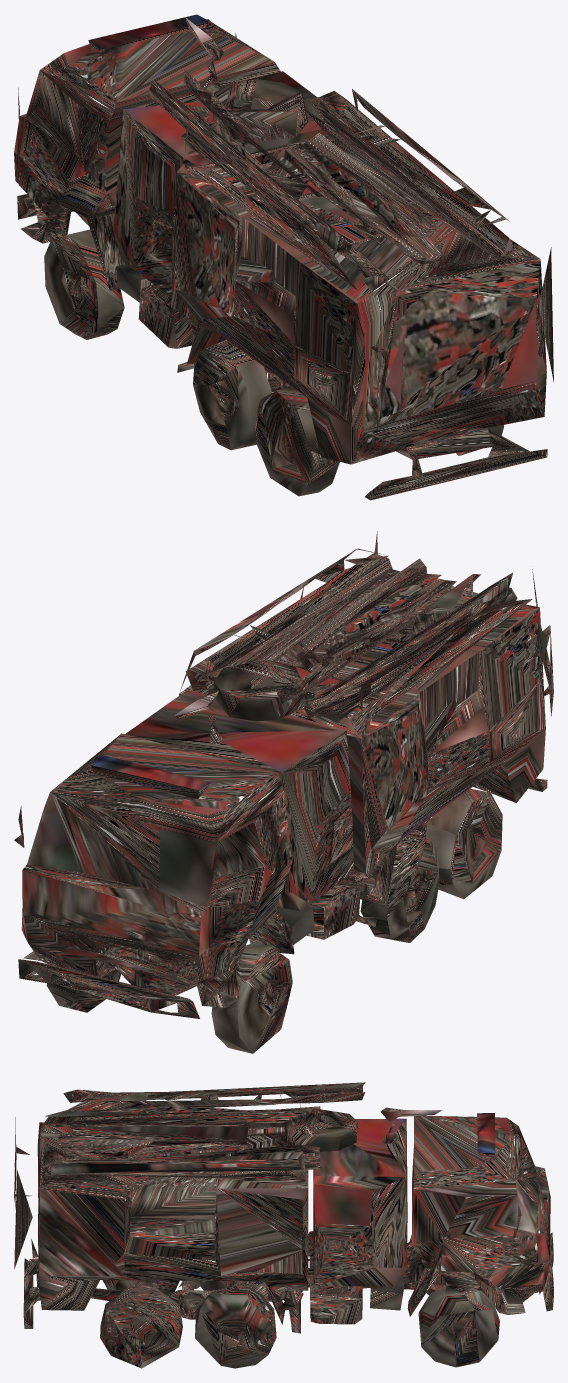
Rendered from kamaz_fire_truck_20k.glb.
The picture shows the model from 3 angles, top to bottom: view 1: azimuth 30°, elevation 25°; view 2: azimuth 150°, elevation 25°; view 3: azimuth 270°, elevation 25°; orthographic projection. The views are drawn at different scales.
Visible parts, largest first — view 1: output_unwrapped; view 2: output_unwrapped; view 3: output_unwrapped.
Part boxes in pixels (left/top/right/bottom): output_unwrapped: left=14, top=14, right=553, bottom=500; output_unwrapped: left=14, top=531, right=553, bottom=1053; output_unwrapped: left=14, top=1082, right=553, bottom=1368.
Size of the model in its own units: 2.98 by 3.78 by 8.18.
1 material, 1 textured.
